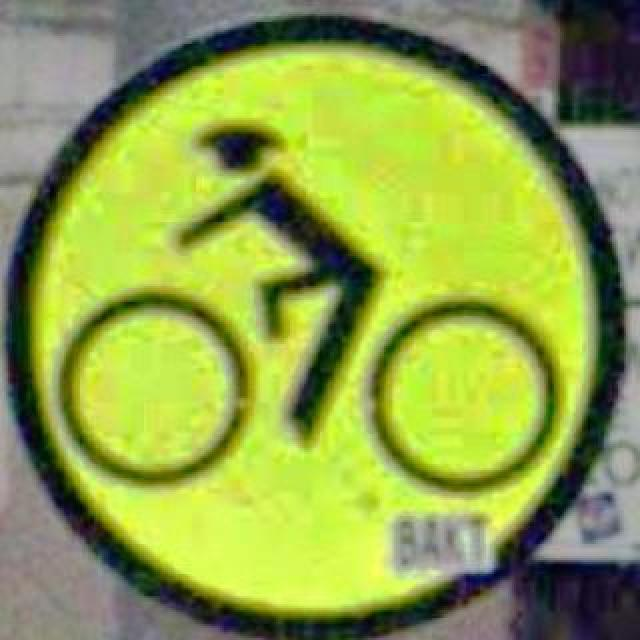bike lane: (0, 14, 624, 638)
